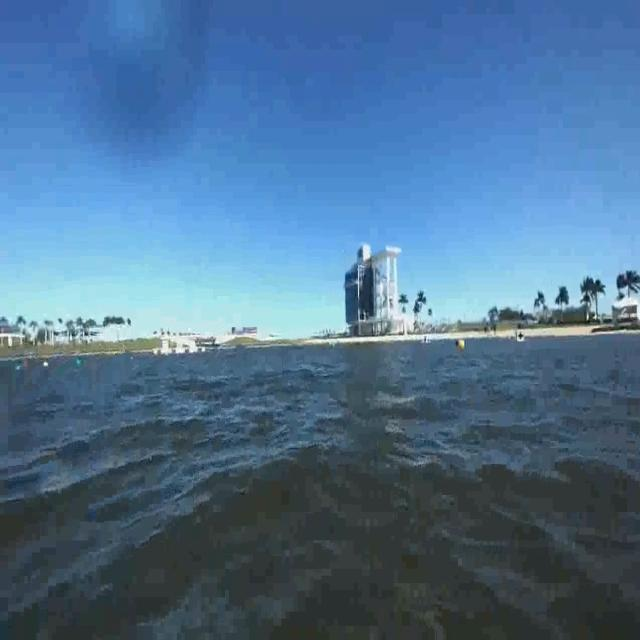yellow-buoy: (458, 339, 466, 352)
